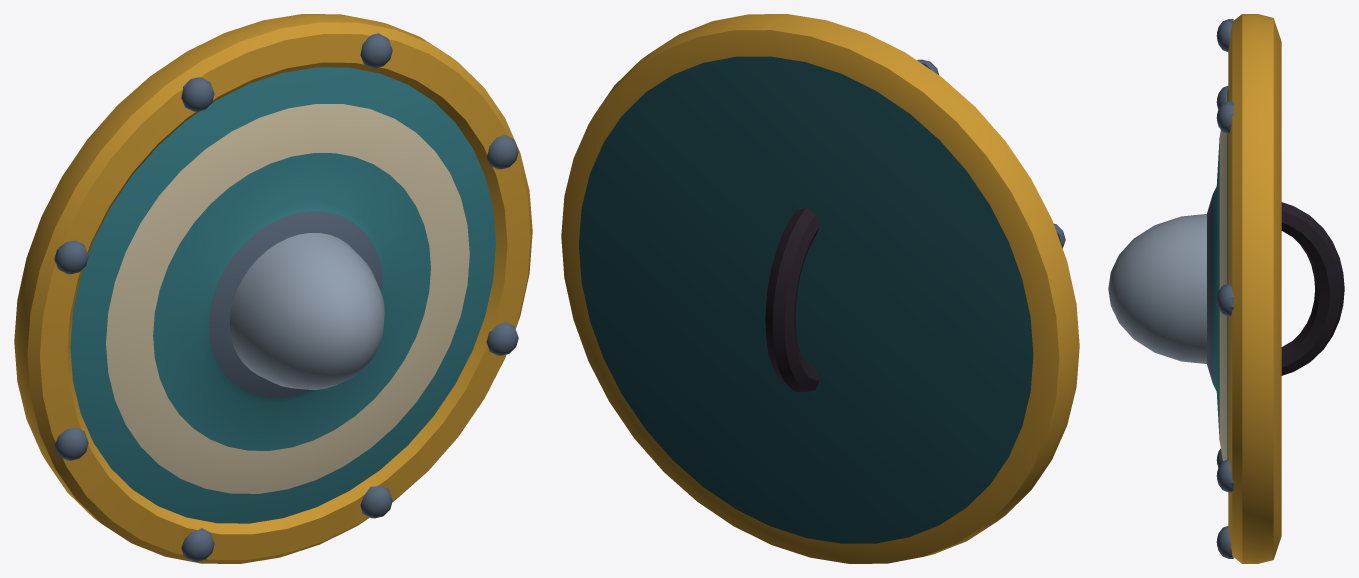
The model's file is RoundShield_02.glb.
3 views of the same model, side by side, from view 1: azimuth 30°, elevation 25°; view 2: azimuth 150°, elevation 25°; view 3: azimuth 270°, elevation 25° (orthographic). The views are drawn at different scales.
Visible parts, largest first — view 1: RoundShield_02; view 2: RoundShield_02; view 3: RoundShield_02.
Boxes of the visible parts, bbox=[...] form: RoundShield_02: bbox=[14, 14, 532, 563]; RoundShield_02: bbox=[561, 14, 1079, 563]; RoundShield_02: bbox=[1108, 14, 1344, 563].
Size of the model in its own units: 2.79 by 2.79 by 1.2.
